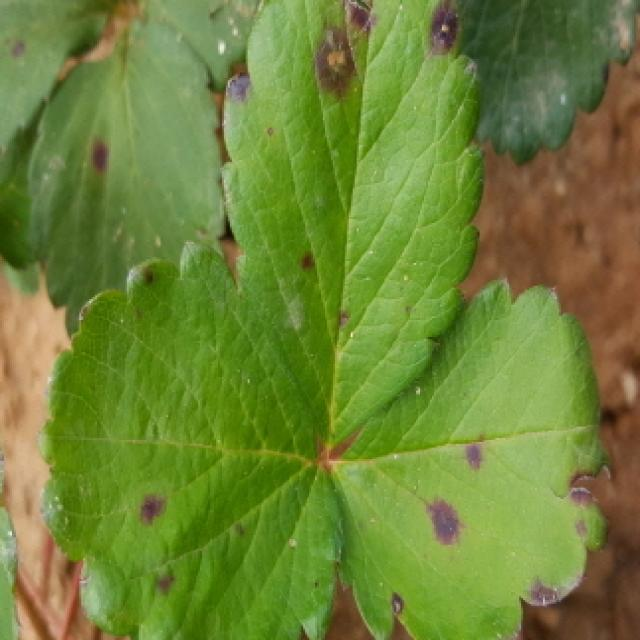Leaf Spot: (37, 241, 342, 640), (220, 0, 485, 457), (324, 275, 618, 640), (28, 18, 228, 340)
